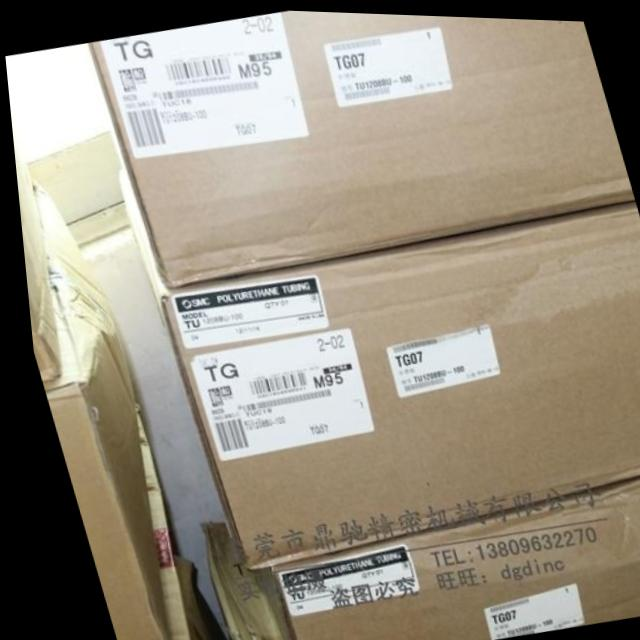box: (117, 167, 640, 568), (87, 8, 630, 288), (260, 470, 640, 640), (36, 233, 160, 640), (10, 131, 57, 383)
